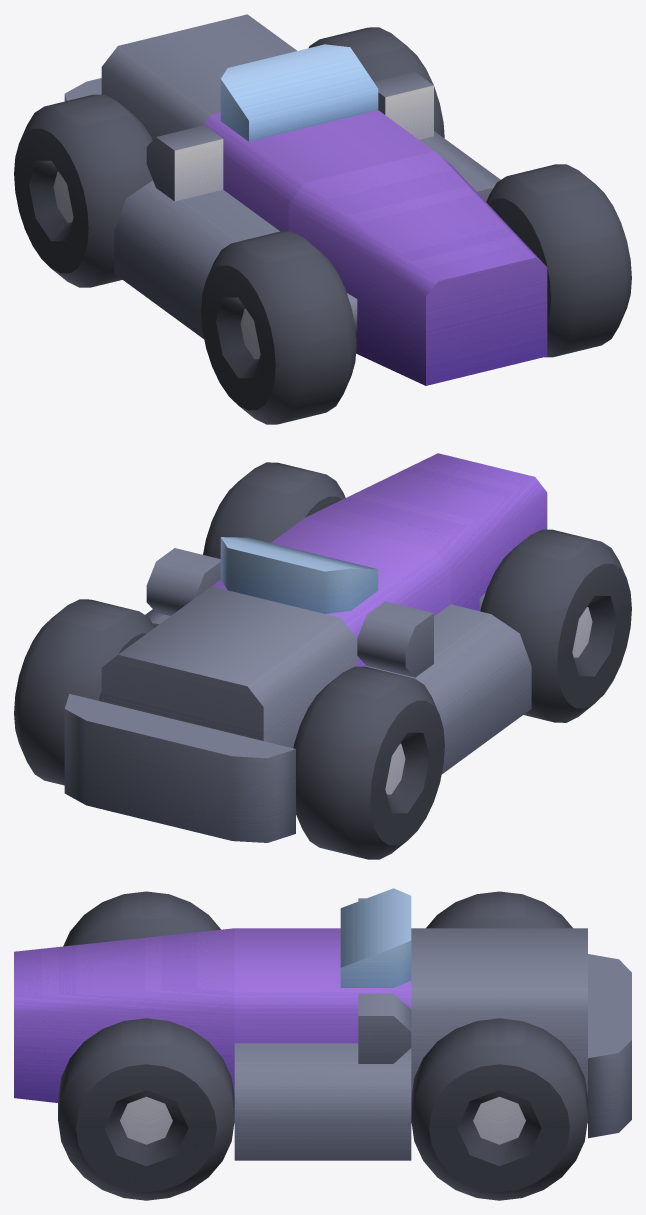
The model's file is car.glb.
3 views of the same model, one above another, from view 1: azimuth 30°, elevation 25°; view 2: azimuth 150°, elevation 25°; view 3: azimuth 270°, elevation 25° (orthographic). The views are drawn at different scales.
Visible parts, largest first — view 1: vehicle-vintage-racer, wheel-bl, wheel-fl, wheel-br, wheel-fr; view 2: vehicle-vintage-racer, wheel-fl, wheel-bl, wheel-fr, wheel-br; view 3: vehicle-vintage-racer, wheel-br, wheel-fr, wheel-bl, wheel-fl.
Boxes of the visible parts, x1,y1,x2,y2 form: vehicle-vintage-racer: (64, 14, 547, 385); wheel-bl: (201, 231, 356, 424); wheel-fl: (14, 94, 152, 287); wheel-br: (486, 164, 631, 357); wheel-fr: (308, 27, 444, 138); vehicle-vintage-racer: (64, 453, 547, 842); wheel-fl: (293, 666, 444, 859); wheel-bl: (480, 529, 631, 722); wheel-fr: (14, 599, 154, 785); wheel-br: (203, 462, 345, 558); vehicle-vintage-racer: (14, 888, 631, 1160); wheel-br: (58, 1018, 234, 1200); wheel-fr: (411, 1018, 587, 1200); wheel-bl: (63, 891, 220, 946); wheel-fl: (426, 891, 572, 928).
Bounding box in the file's own units: 0.55 × 0.325 × 0.875.
Materials: 1 (1 with a texture image).
